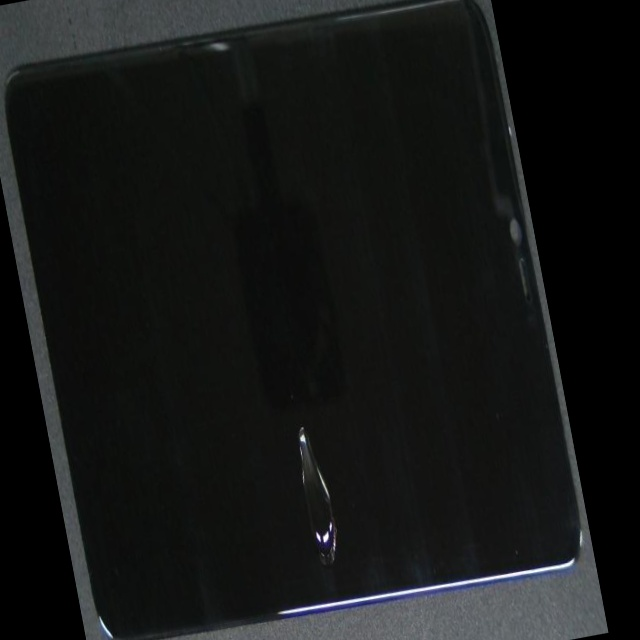oil: (164, 253, 499, 640)
